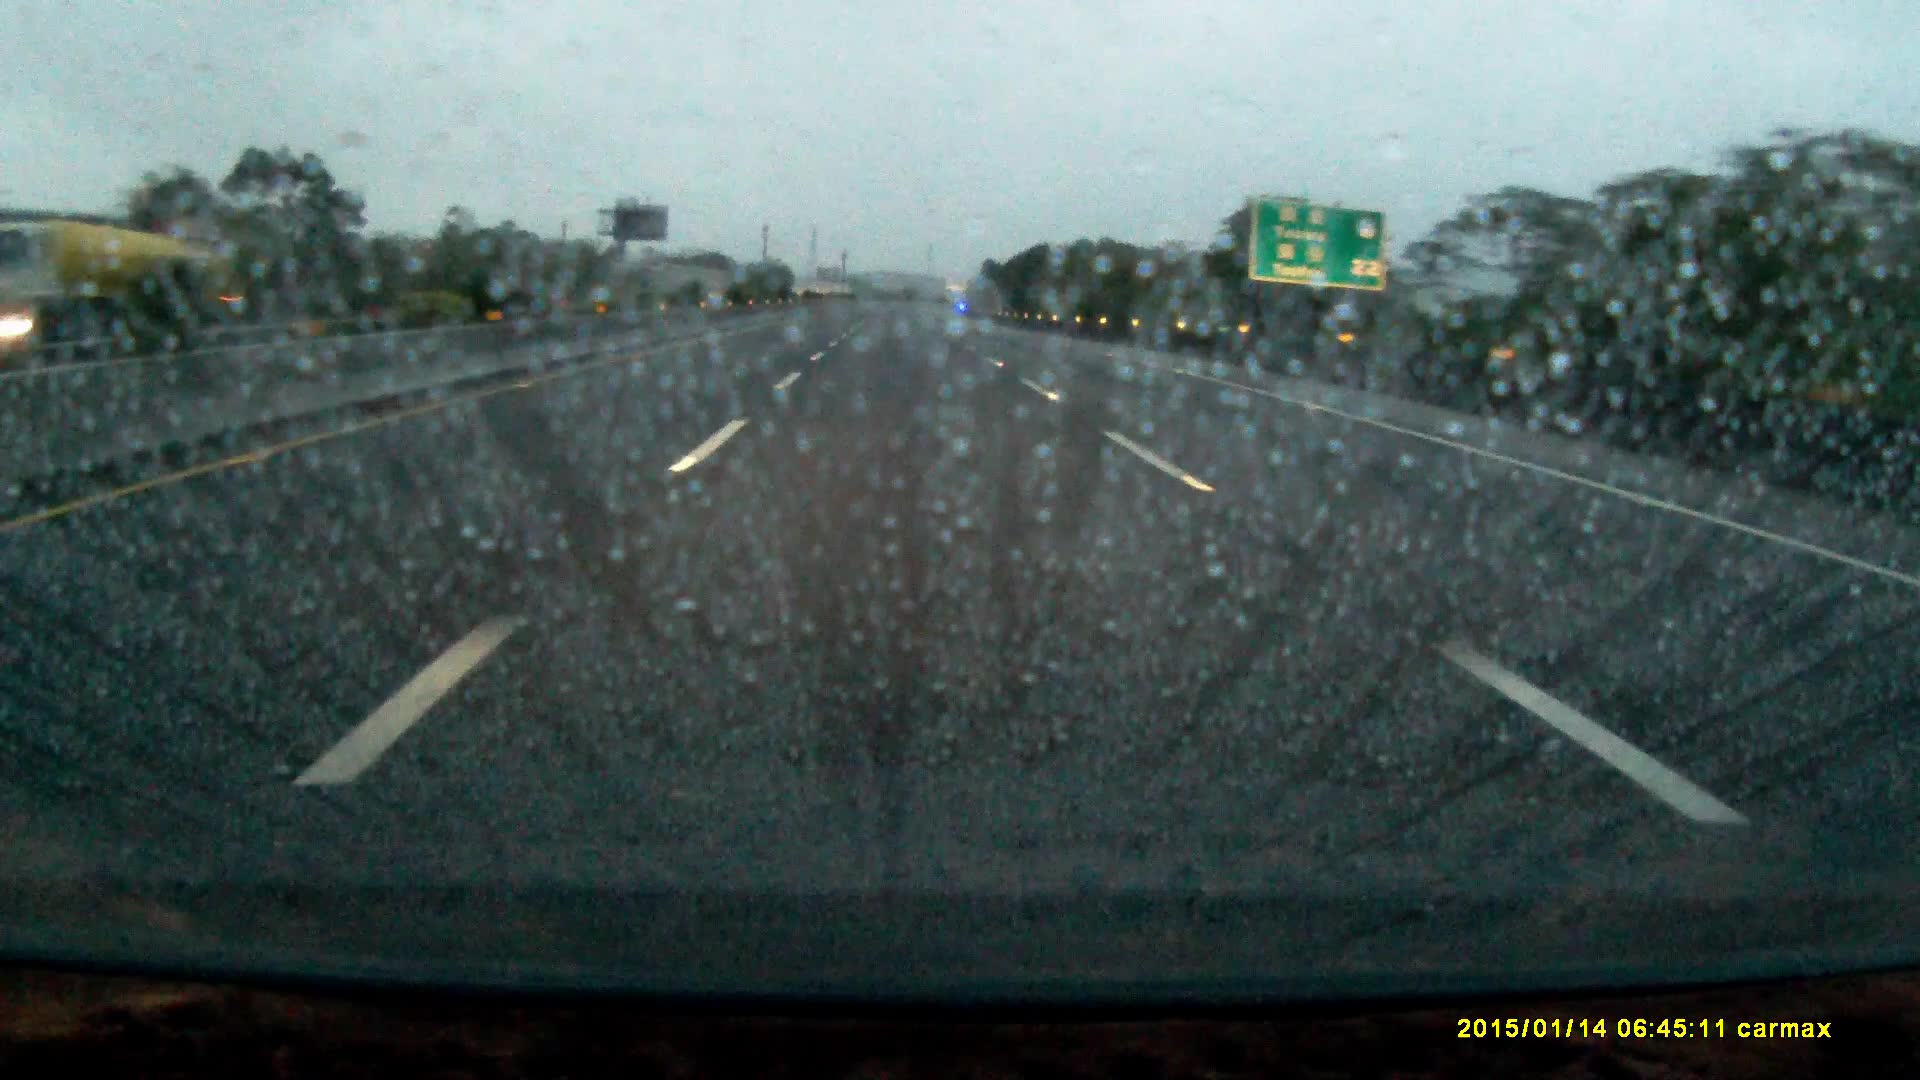vehicle: (29, 233, 219, 335)
